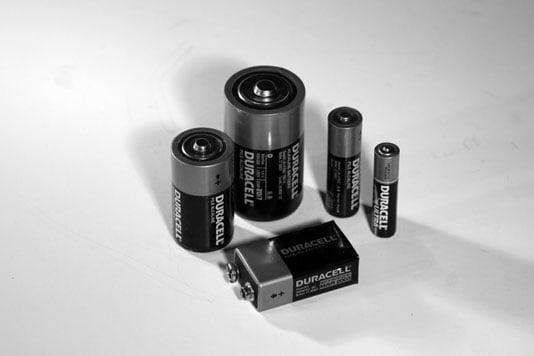AA: (324, 104, 364, 221)
AAA: (370, 140, 402, 240)
